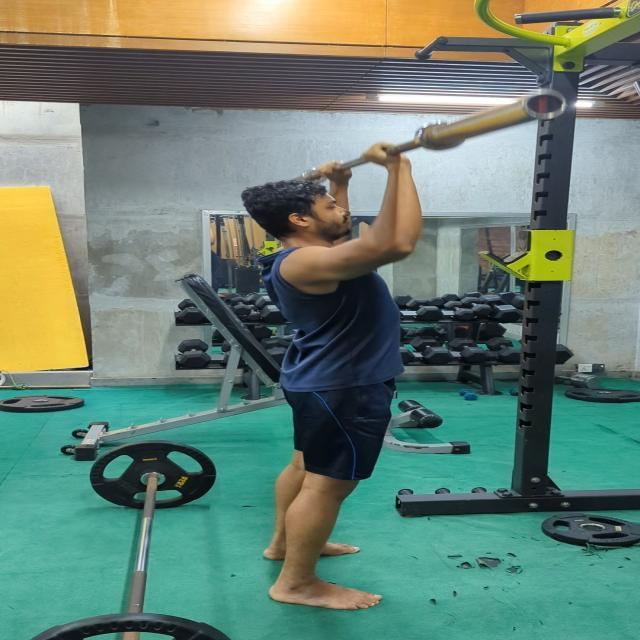Normal_OverheadPress: (240, 127, 430, 620)
